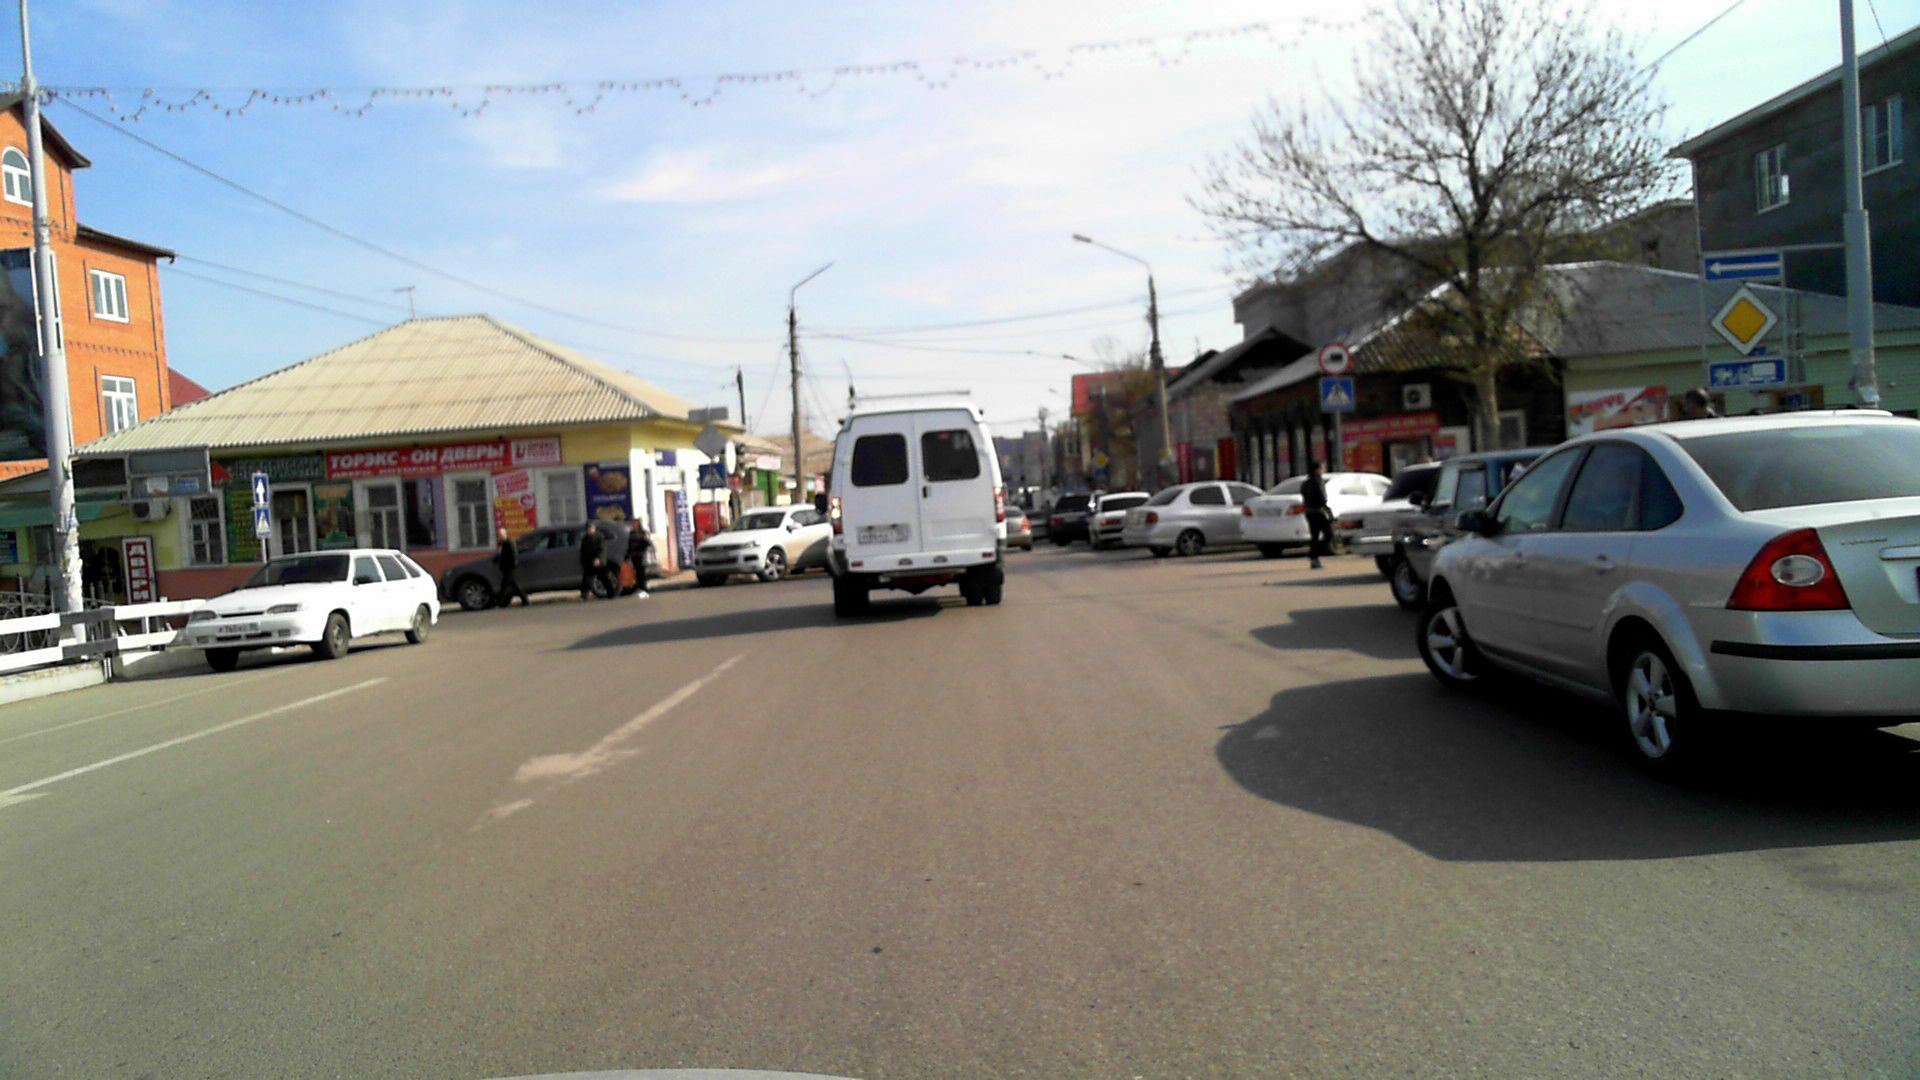One-Way Traffic: (1704, 252, 1782, 280)
